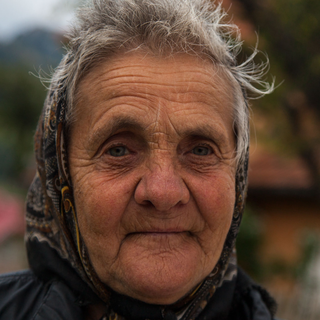eye: (98, 141, 140, 162), (181, 140, 220, 162)
